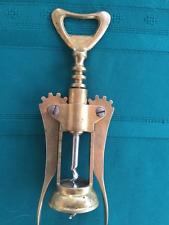bottleopener: (35, 8, 114, 225)
